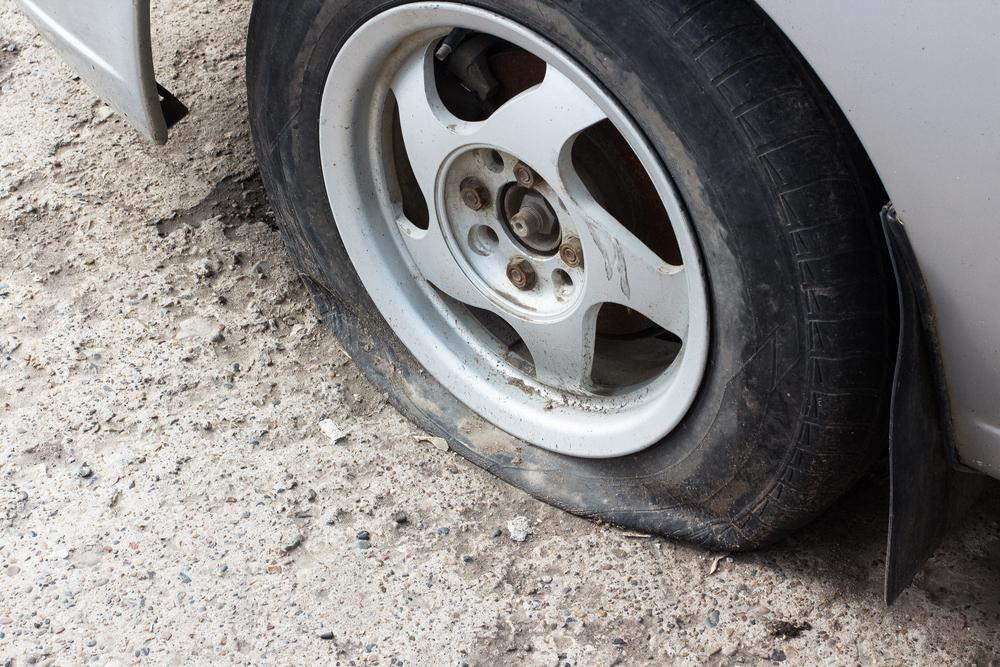tire flat: (243, 0, 873, 552)
